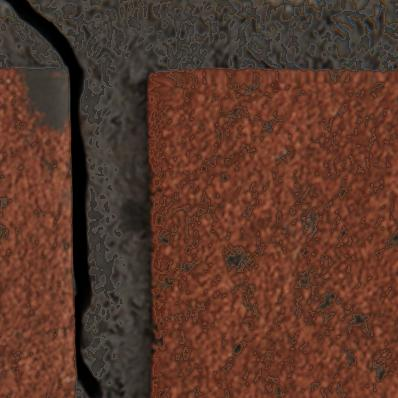brick: (147, 69, 397, 397), (0, 68, 75, 397)
crack: (0, 0, 100, 397)
